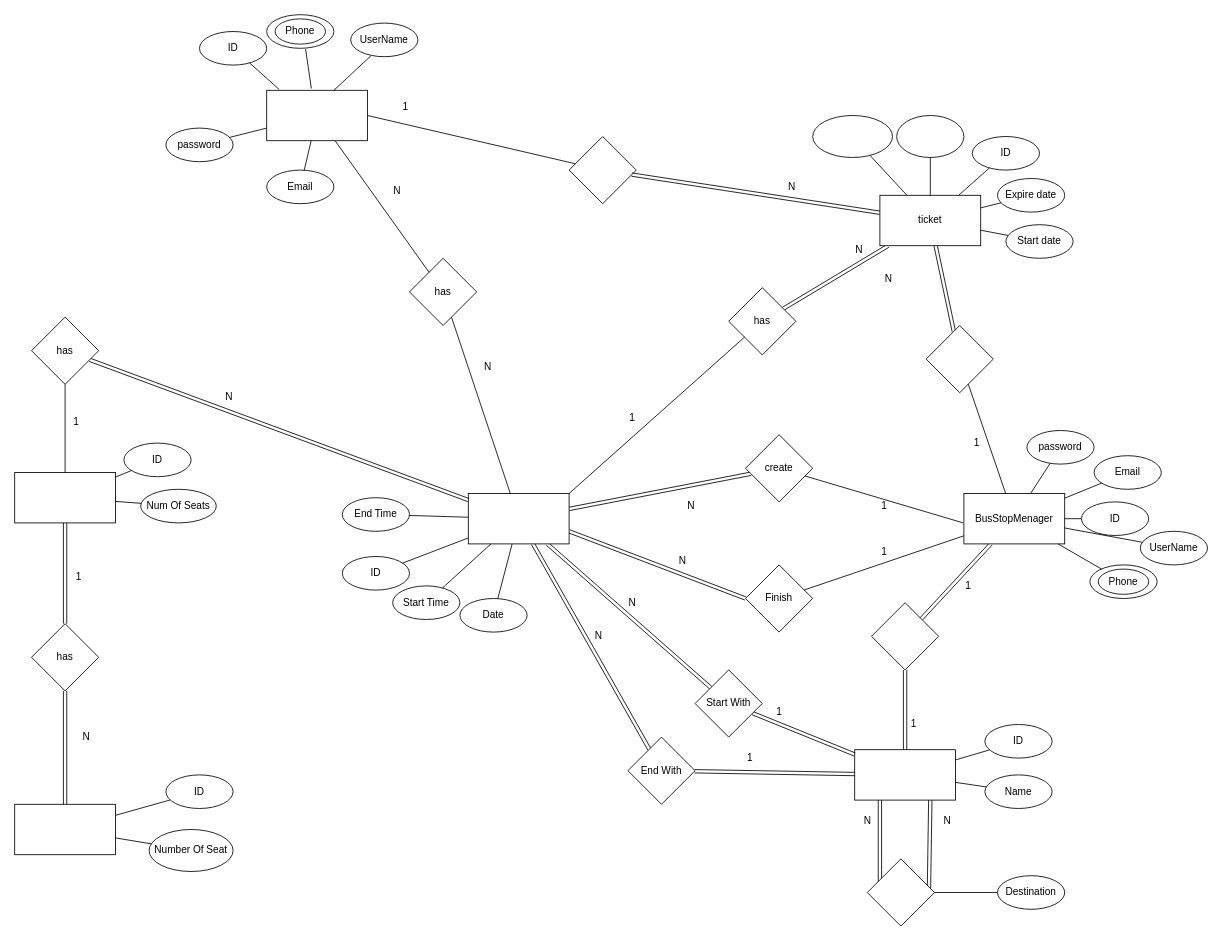
Image size: 1222x941. Some labels were removed from this diagram. Here are the shapes that lost their labels. From the top down, the centre of each, then its label:
(x=317, y=115): Customer
(x=852, y=136): Seat Number
(x=930, y=136): Price
(x=602, y=170): buy
(x=959, y=359): cut
(x=65, y=497): bus
(x=518, y=518): Journey
(x=905, y=636): Manage
(x=905, y=774): bus station
(x=65, y=829): Seat
(x=900, y=892): Go To
